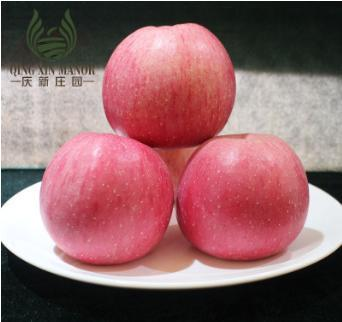apple: (40, 138, 176, 267), (174, 134, 311, 262), (102, 25, 240, 149)
